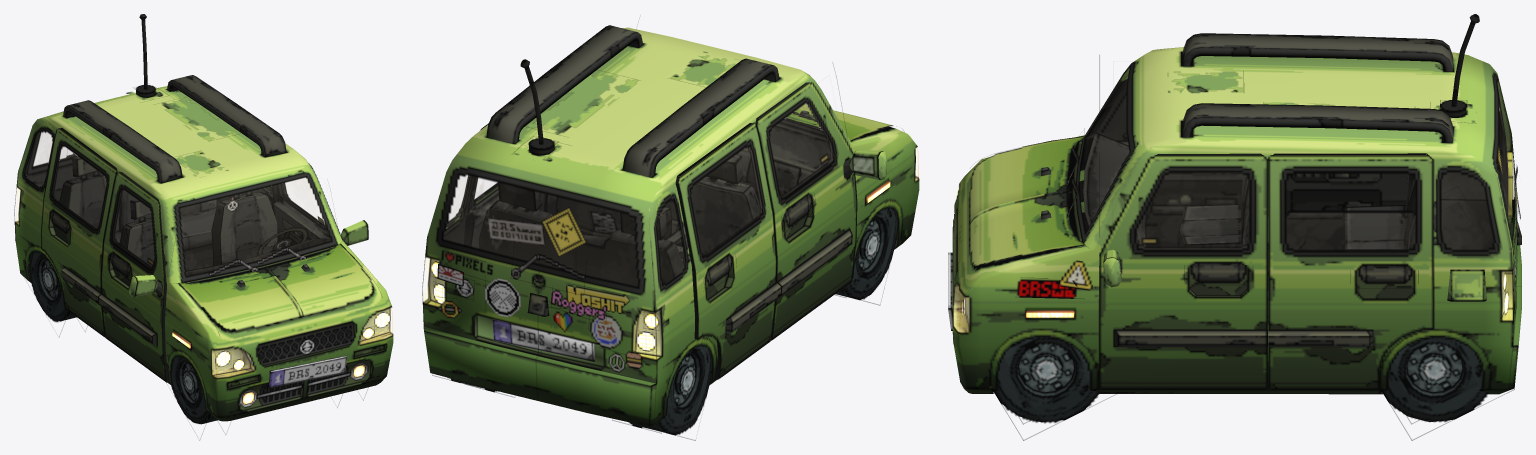
The model's file is car.glb.
The picture shows the model from 3 angles, left to right: view 1: azimuth 30°, elevation 25°; view 2: azimuth 150°, elevation 25°; view 3: azimuth 270°, elevation 25°; orthographic projection. The views are drawn at different scales.
Parts seen in each view (by area): view 1: Object_0, Object_12, Object_4, Object_1, Object_15, Object_3, Object_18, Object_9, Object_14, Object_11; view 2: Object_0, Object_4, Object_1, Object_9, Object_18, Object_3, Object_6, Object_12, Object_10; view 3: Object_0, Object_15, Object_6, Object_12, Object_17, Object_8, Object_1, Object_4, Object_3, Object_10.
Part boxes in pixels (x1,y1,x2,y2): Object_0: [14, 75, 393, 421]; Object_12: [178, 244, 382, 335]; Object_4: [98, 172, 179, 382]; Object_1: [41, 128, 117, 337]; Object_15: [273, 163, 368, 245]; Object_3: [15, 132, 392, 376]; Object_18: [170, 353, 227, 440]; Object_9: [29, 251, 87, 337]; Object_14: [268, 355, 346, 387]; Object_11: [256, 220, 317, 255]; Object_0: [422, 25, 919, 427]; Object_4: [755, 62, 886, 340]; Object_1: [675, 122, 780, 379]; Object_9: [612, 345, 712, 440]; Object_18: [835, 207, 898, 305]; Object_3: [424, 147, 918, 358]; Object_6: [464, 123, 547, 248]; Object_12: [786, 104, 904, 141]; Object_10: [520, 59, 543, 144]; Object_0: [952, 33, 1521, 394]; Object_15: [1098, 153, 1268, 389]; Object_6: [1268, 153, 1434, 390]; Object_12: [969, 136, 1083, 267]; Object_17: [994, 336, 1119, 440]; Object_8: [1382, 337, 1514, 440]; Object_1: [1286, 173, 1407, 249]; Object_4: [1099, 55, 1242, 246]; Object_3: [954, 114, 1511, 331]; Object_10: [1451, 14, 1479, 106].
Size of the model in its own units: 1.97 by 2.23 by 2.98.
Materials: 2 (2 with a texture image).
